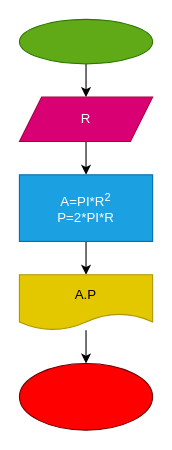
This 172x450 diagram has some shape labels left out. The centre of each missing label's shape, as x and y in pixels:
"FIN" goes at (85,396).
"INICIO" goes at (85,41).
